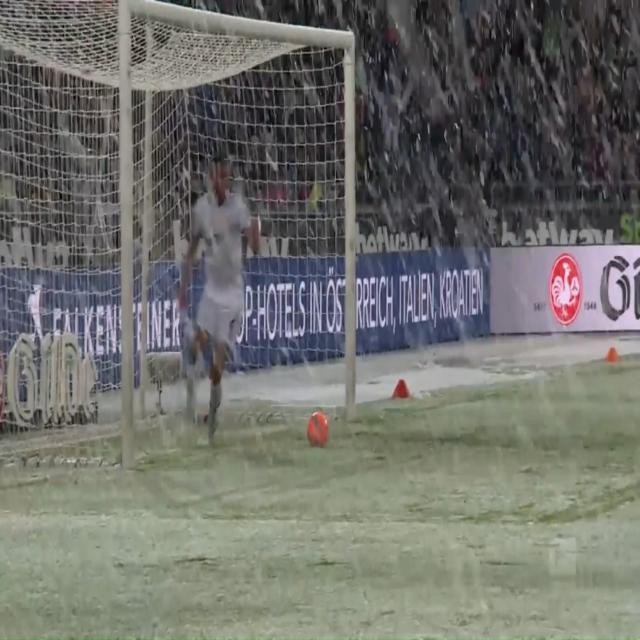ball: (302, 406, 337, 458)
player: (163, 141, 260, 472)
